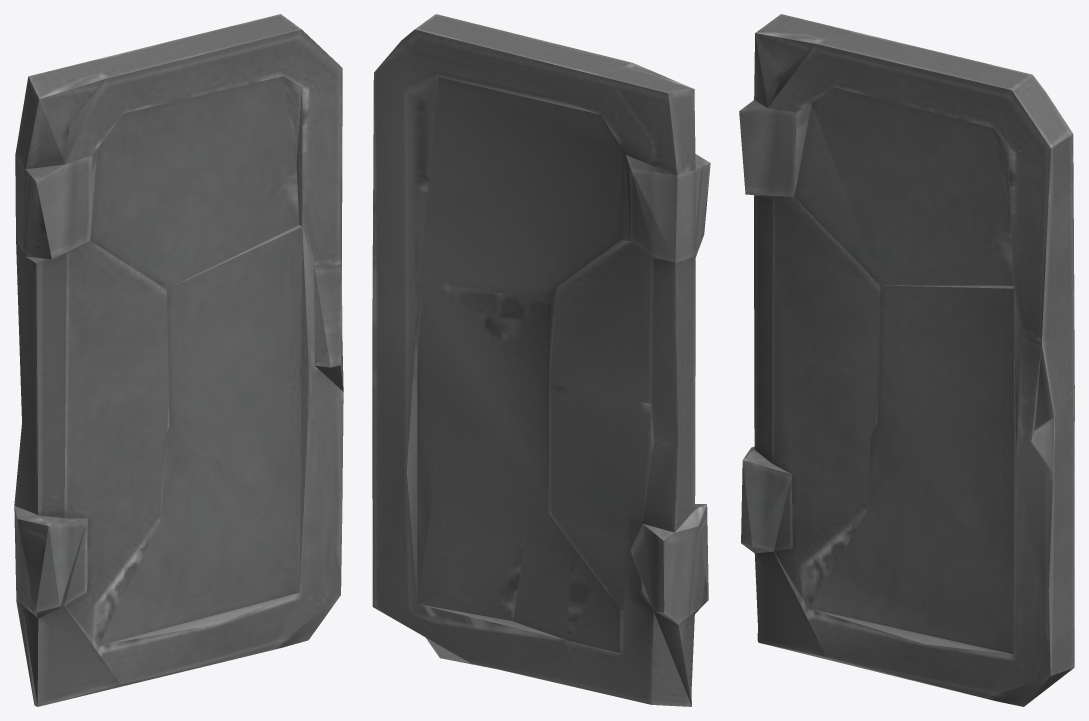
File: imperial_armoured_bunker__entrance_door_leaf_lod2.glb
3 views of the same model, side by side, from view 1: azimuth 30°, elevation 25°; view 2: azimuth 150°, elevation 25°; view 3: azimuth 330°, elevation 25° (orthographic).
Parts seen in each view (by area): view 1: mesh_node; view 2: mesh_node; view 3: mesh_node.
Part boxes in pixels (box(x1,y1,x2,y2)): mesh_node: box(14, 14, 343, 706); mesh_node: box(372, 14, 710, 706); mesh_node: box(739, 14, 1074, 706).
Size of the model in its own units: 1.31 by 2.47 by 0.2851.
Materials: 1 (1 with a texture image).
